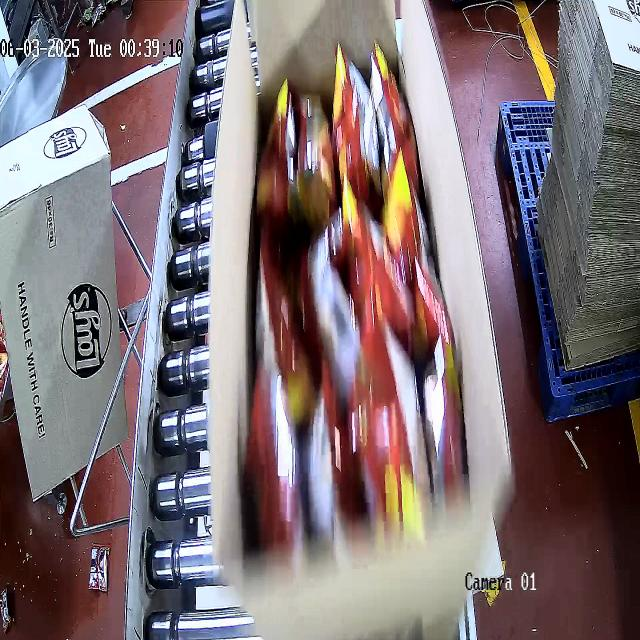MASALA: (252, 38, 466, 562)
